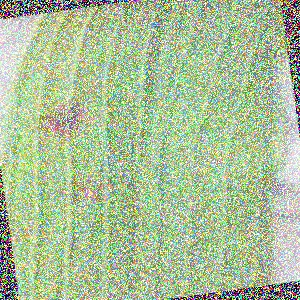Bacterial_Leaf_Blight: (33, 96, 94, 142), (59, 176, 101, 210), (209, 153, 228, 168), (106, 49, 125, 63), (68, 249, 83, 260)
